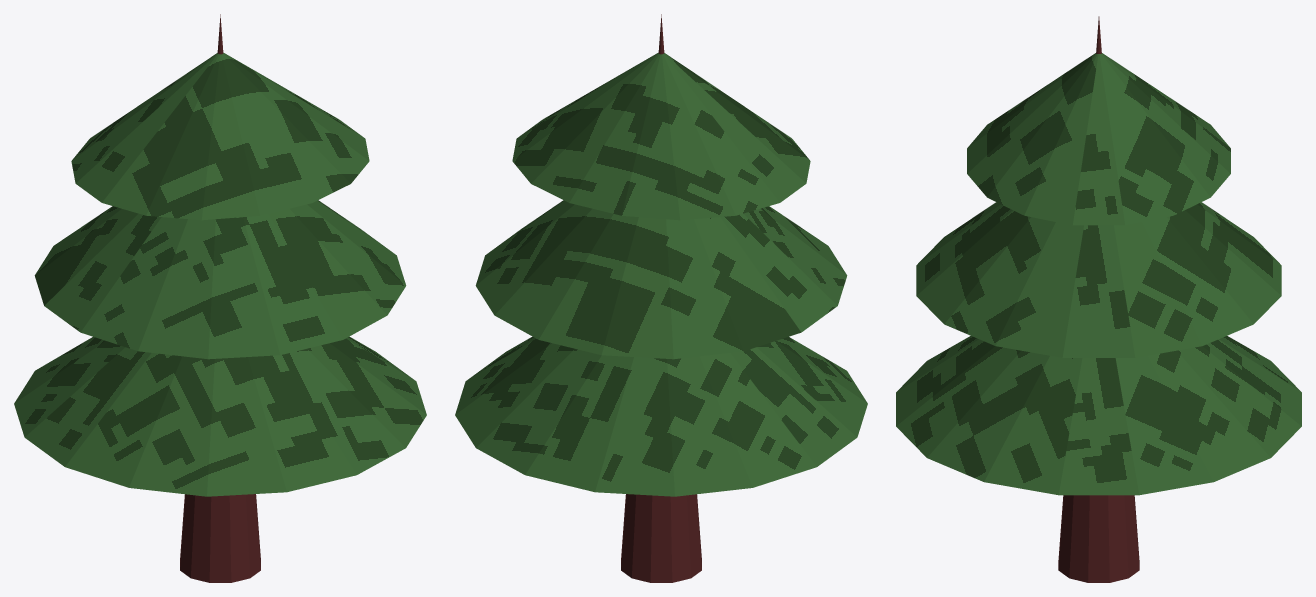
Rendered from tree green.gltf.
3 views of the same model, side by side, from view 1: azimuth 30°, elevation 25°; view 2: azimuth 150°, elevation 25°; view 3: azimuth 270°, elevation 25° (orthographic).
Parts seen in each view (by area): view 1: cone (×4); view 2: cone (×4); view 3: cone (×4).
Part boxes in pixels (bbox=[...]): cone (×4): bbox=[14, 14, 426, 582]; cone (×4): bbox=[455, 14, 867, 582]; cone (×4): bbox=[896, 16, 1301, 582].
Size of the model in its own units: 2.5 by 3.75 by 2.5.
2 materials, 2 textured.
